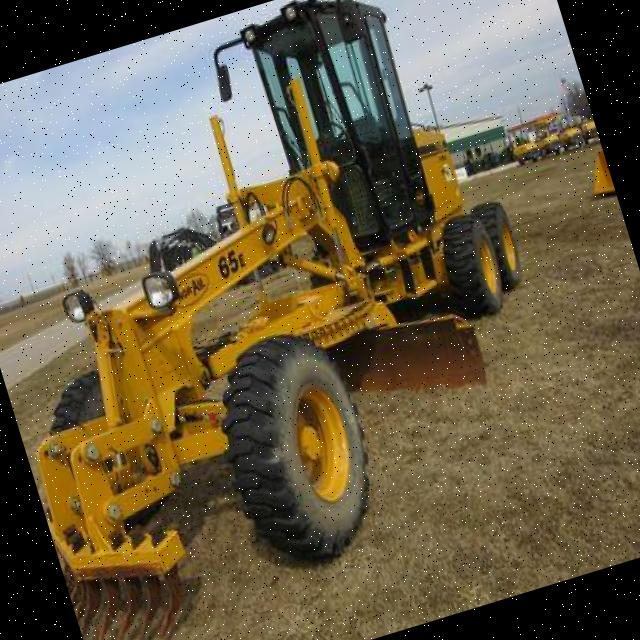Grader: (0, 0, 591, 627)
